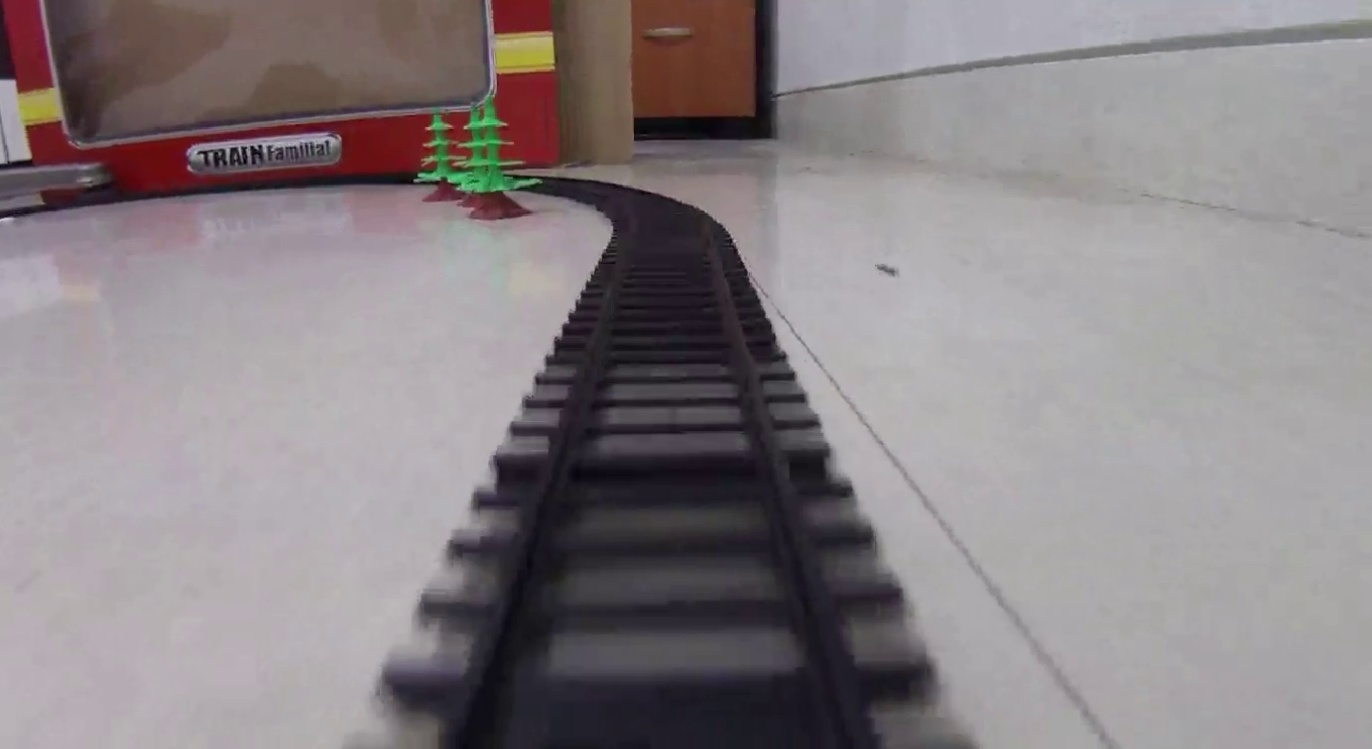tree: (468, 95, 531, 220), (420, 108, 467, 193)
